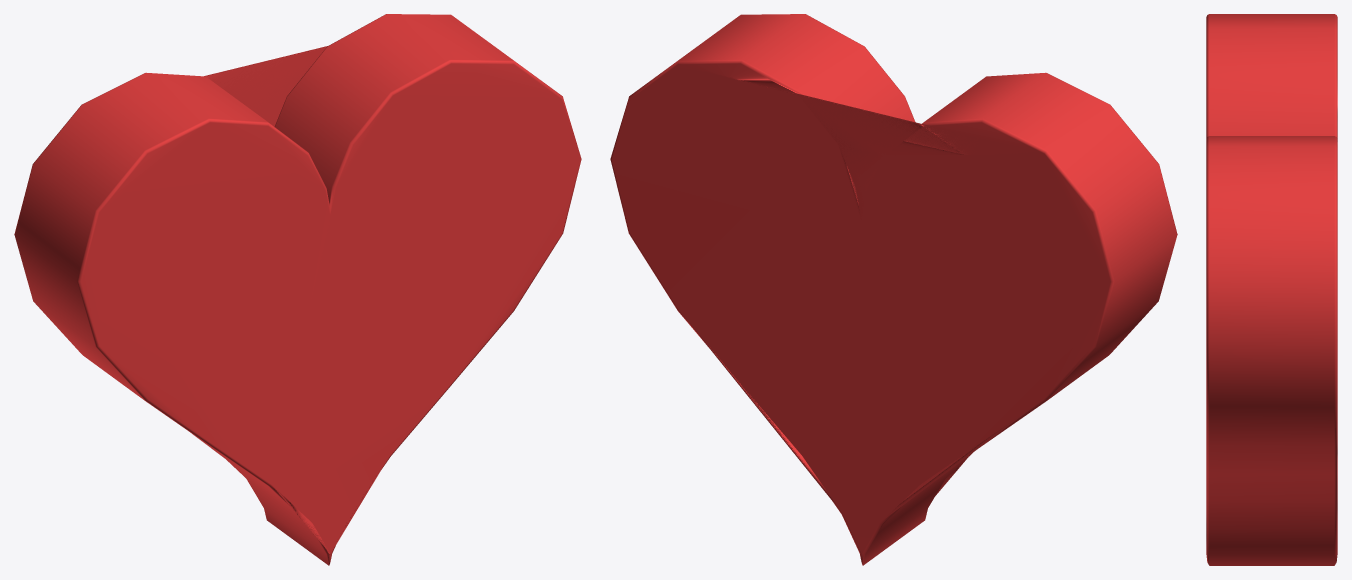
File: Heart.fbx
3 renders of one model, left to right at view 1: azimuth 30°, elevation 25°; view 2: azimuth 150°, elevation 25°; view 3: azimuth 270°, elevation 25°, orthographic.
Visible parts, largest first — view 1: Heart; view 2: Heart; view 3: Heart.
Part boxes in pixels (x1,y1,x2,y2): Heart: (14, 14, 581, 565); Heart: (610, 14, 1177, 565); Heart: (1206, 14, 1337, 565).
Size of the model in its own units: 2 by 1.81 by 0.45.
1 material, 1 textured.
